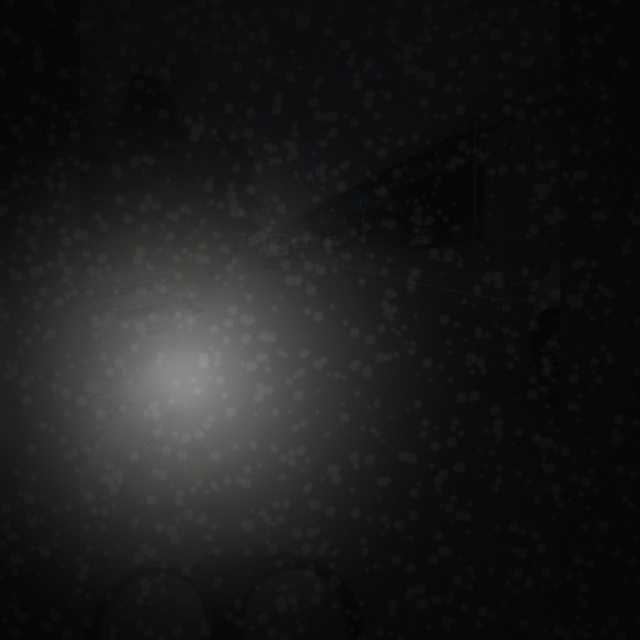Pass_Either_Side: (354, 194, 372, 212)
